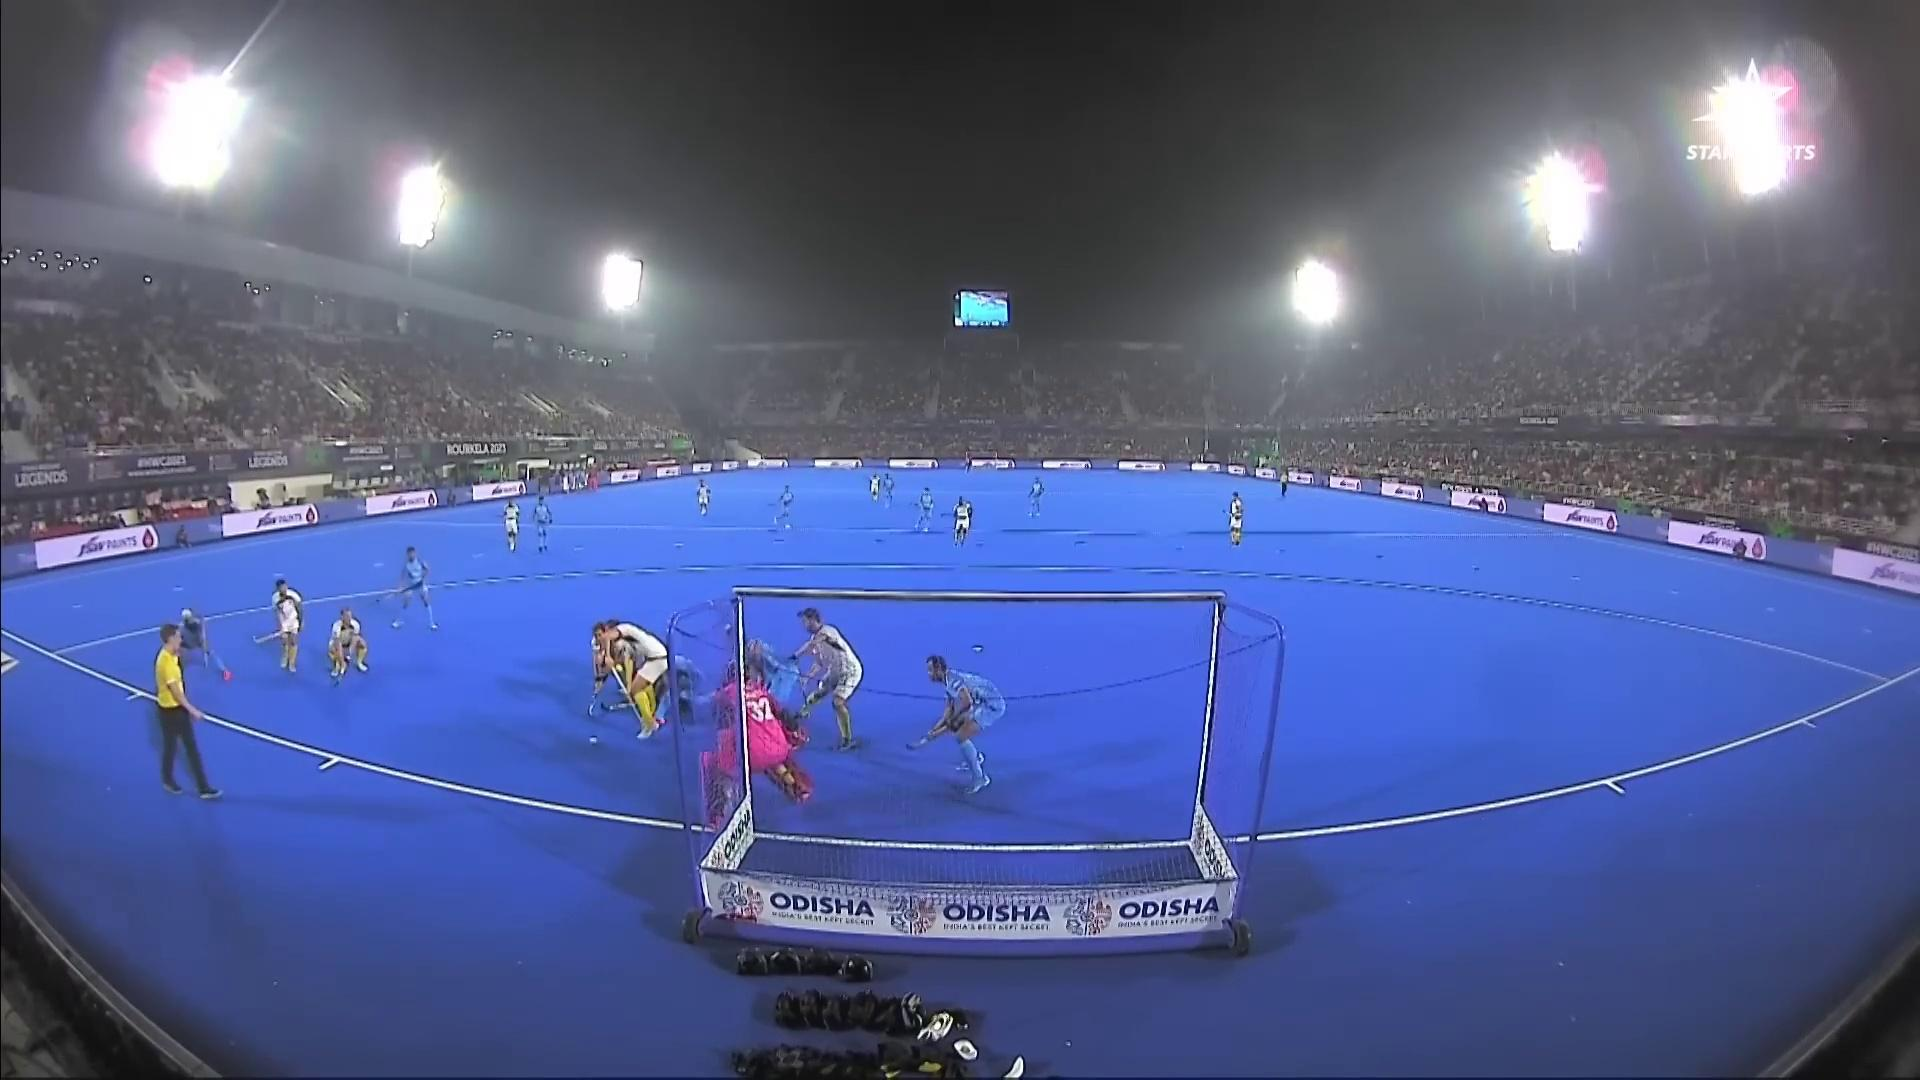ball: (588, 736, 599, 746)
